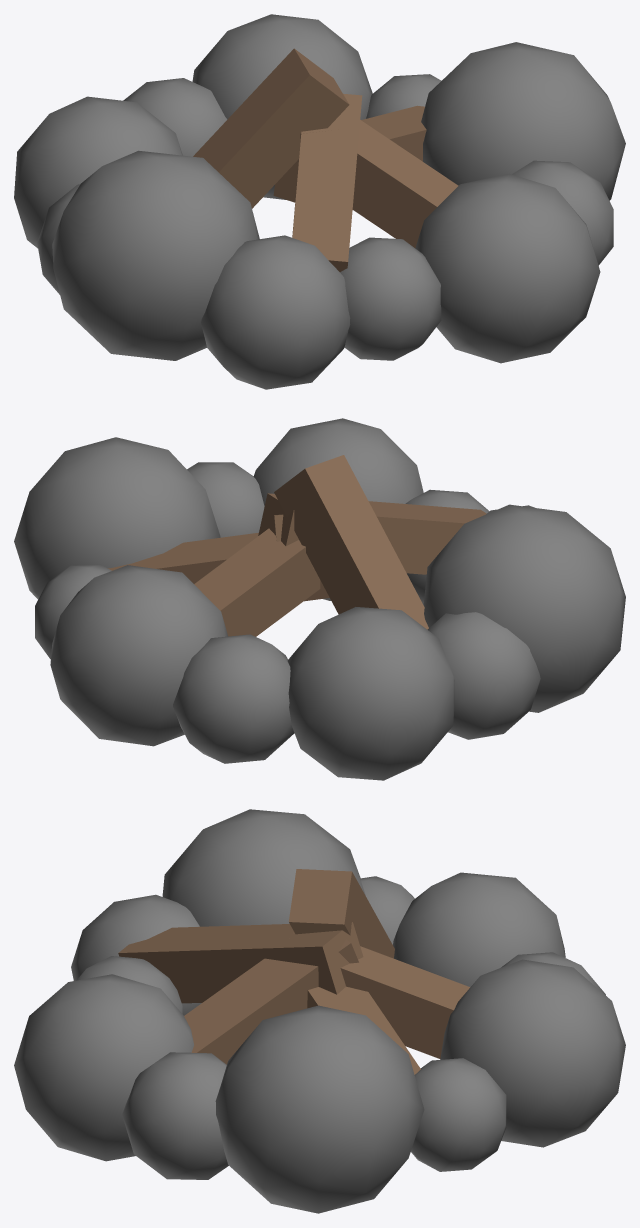
File: CampFire.fbx
The picture shows the model from 3 angles, top to bottom: view 1: azimuth 30°, elevation 25°; view 2: azimuth 150°, elevation 25°; view 3: azimuth 270°, elevation 25°; orthographic projection. The views are drawn at different scales.
Visible parts, largest first — view 1: pPlatonic11, pCube1 (×4), pPlatonic4, pPlatonic2, pPlatonic10, pPlatonic8, pPlatonic3, pPlatonic6, pPlatonic9, pPlatonic1, pPlatonic7, pPlatonic5; view 2: pCube1 (×4), pPlatonic11, pPlatonic8, pPlatonic6, pPlatonic2, pPlatonic9, pPlatonic5, pPlatonic4, pPlatonic1, pPlatonic7, pPlatonic3; view 3: pPlatonic2, pCube1 (×5), pPlatonic6, pPlatonic4, pPlatonic11, pPlatonic8, pPlatonic1, pPlatonic7, pPlatonic10, pPlatonic3, pPlatonic5, pPlatonic9.
Boxes of the visible parts, box(x1,y1,x2,y2) form: pPlatonic11: box(52, 150, 259, 360); pCube1 (×4): box(193, 48, 458, 271); pPlatonic4: box(415, 173, 600, 363); pPlatonic2: box(421, 42, 625, 200); pPlatonic10: box(201, 235, 350, 389); pPlatonic8: box(14, 96, 182, 248); pPlatonic3: box(340, 237, 441, 360); pPlatonic6: box(192, 14, 372, 199); pPlatonic9: box(123, 78, 227, 156); pPlatonic1: box(512, 160, 613, 265); pPlatonic7: box(366, 74, 441, 118); pPlatonic5: box(37, 184, 80, 294); pCube1 (×4): box(108, 455, 486, 636); pPlatonic11: box(423, 504, 625, 712); pPlatonic8: box(287, 607, 454, 780); pPlatonic6: box(50, 565, 228, 746); pPlatonic2: box(14, 437, 220, 599); pPlatonic9: box(173, 634, 294, 763); pPlatonic5: box(427, 612, 540, 739); pPlatonic4: box(253, 418, 423, 600); pPlatonic1: box(187, 462, 264, 537); pPlatonic7: box(35, 564, 111, 659); pPlatonic3: box(405, 489, 489, 604); pPlatonic2: box(215, 1005, 424, 1213); pCube1 (×5): box(118, 869, 469, 1074); pPlatonic6: box(440, 959, 625, 1147); pPlatonic4: box(14, 974, 193, 1161); pPlatonic11: box(162, 809, 365, 926); pPlatonic8: box(393, 872, 565, 987); pPlatonic1: box(122, 1052, 228, 1179); pPlatonic7: box(411, 1058, 506, 1171); pPlatonic10: box(71, 894, 201, 1015); pPlatonic3: box(76, 956, 182, 1013); pPlatonic5: box(361, 876, 414, 944); pPlatonic9: box(501, 952, 605, 995).
Size of the model in its own units: 8.01 by 3.23 by 7.48.
